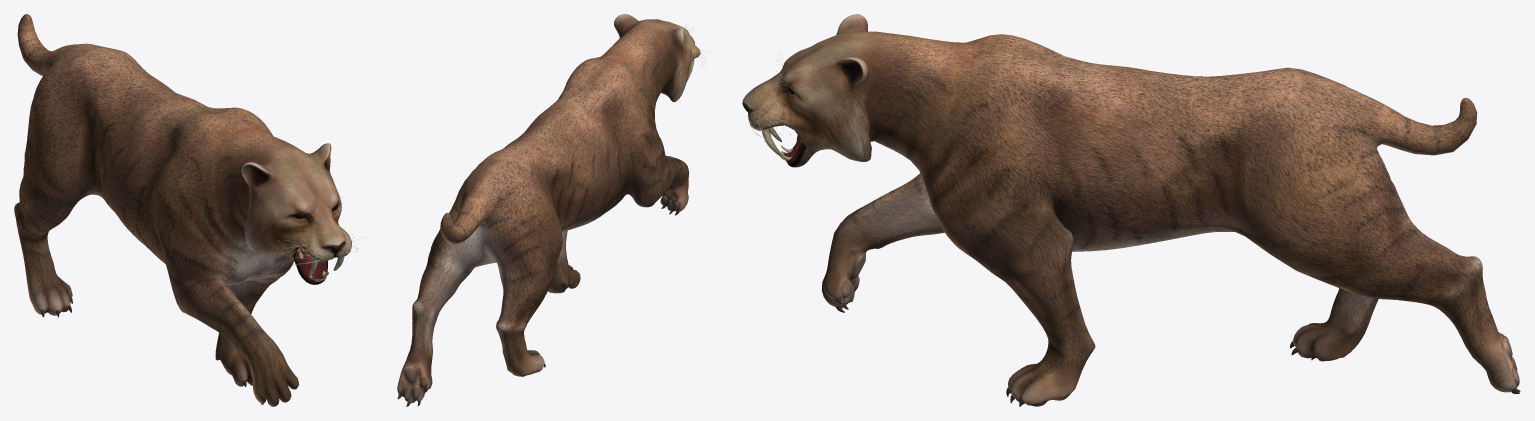
3 views of the same model, side by side, from view 1: azimuth 30°, elevation 25°; view 2: azimuth 150°, elevation 25°; view 3: azimuth 270°, elevation 25° (orthographic). The views are drawn at different scales.
Visible parts, largest first — view 1: node_id36; view 2: node_id36; view 3: node_id36.
Part boxes in pixels (<box>): node_id36: <box>14,14,368,406</box>; node_id36: <box>397,14,713,406</box>; node_id36: <box>742,14,1520,406</box>.
Size of the model in its own units: 0.4224 by 0.9187 by 1.9.
Materials: 1 (1 with a texture image).
